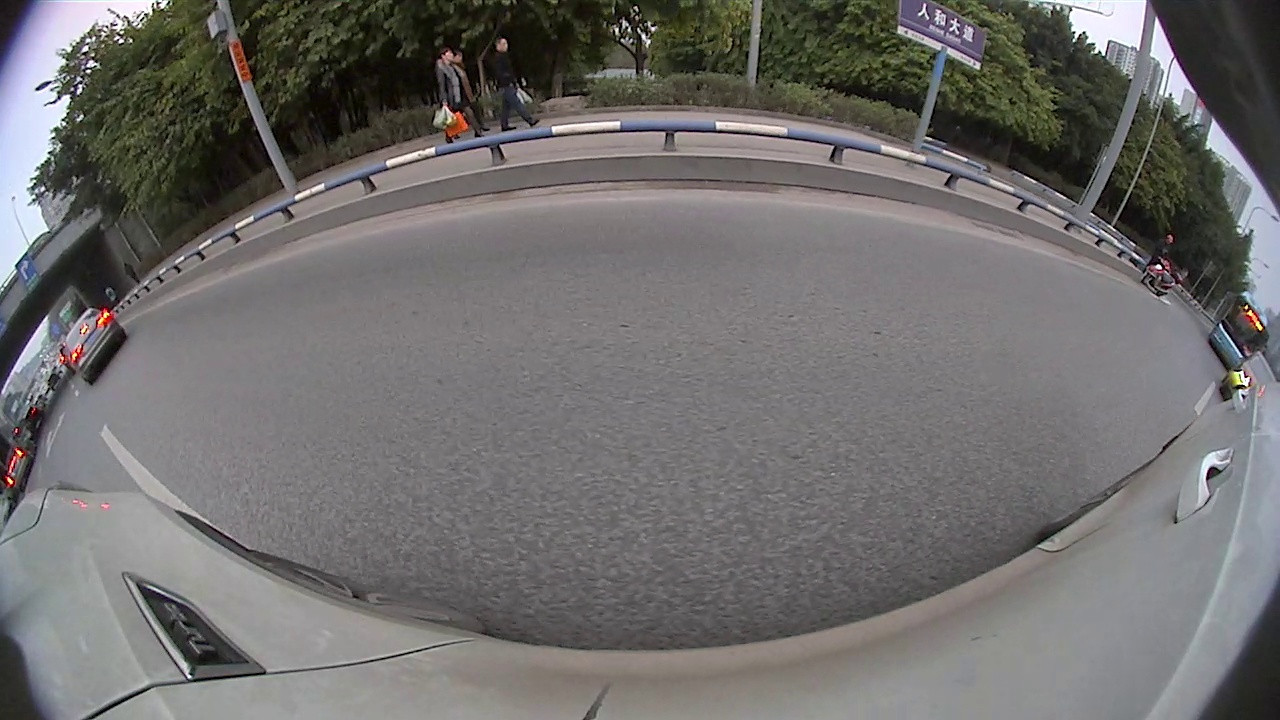bus: (1206, 292, 1273, 374)
car: (62, 305, 128, 384), (1217, 349, 1279, 403), (1, 440, 38, 493)
person: (495, 35, 535, 128), (453, 50, 490, 133), (438, 45, 457, 143), (1145, 233, 1175, 272)
rider: (1139, 253, 1186, 299)
